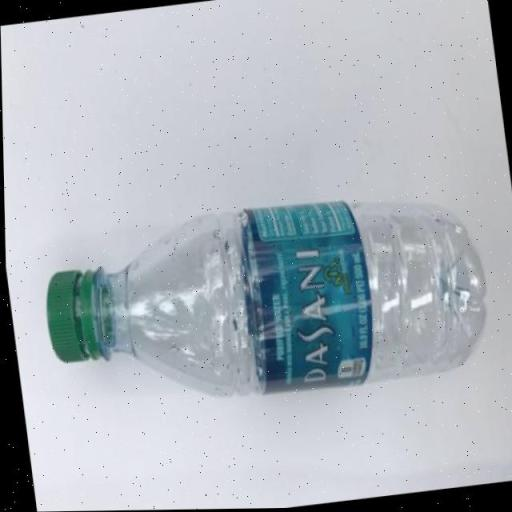plastic: (46, 203, 484, 396)
